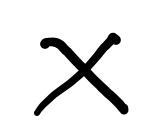mult: (37, 33, 128, 115)
